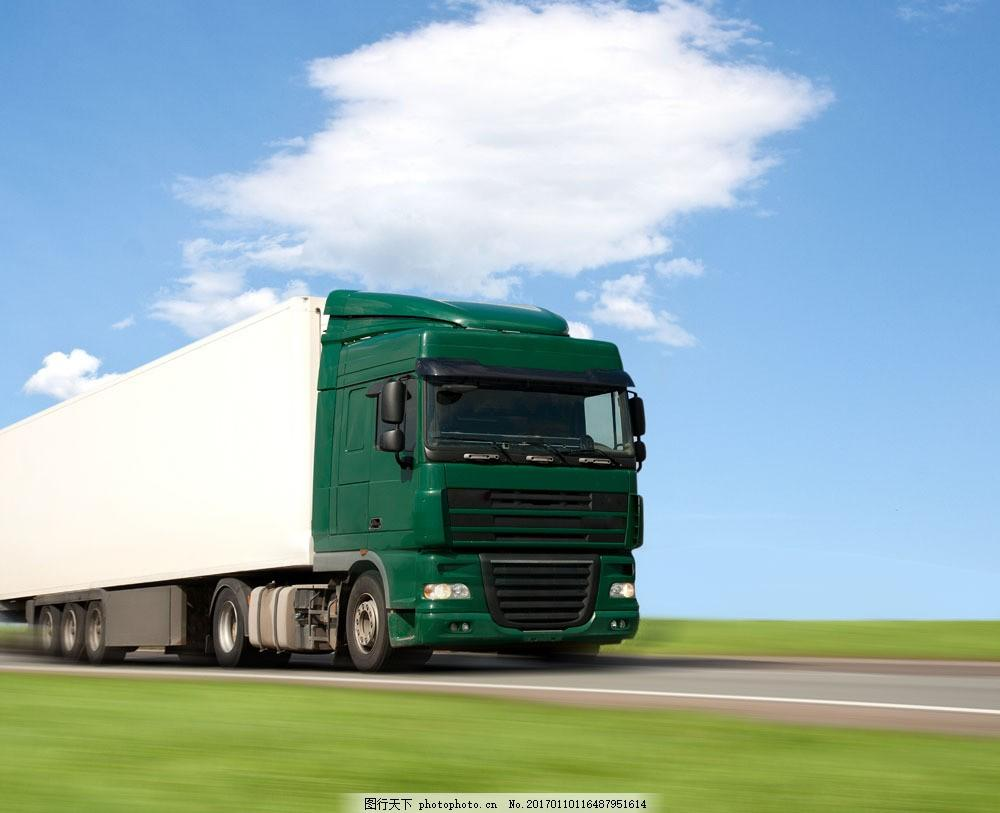truck: (1, 279, 661, 681)
